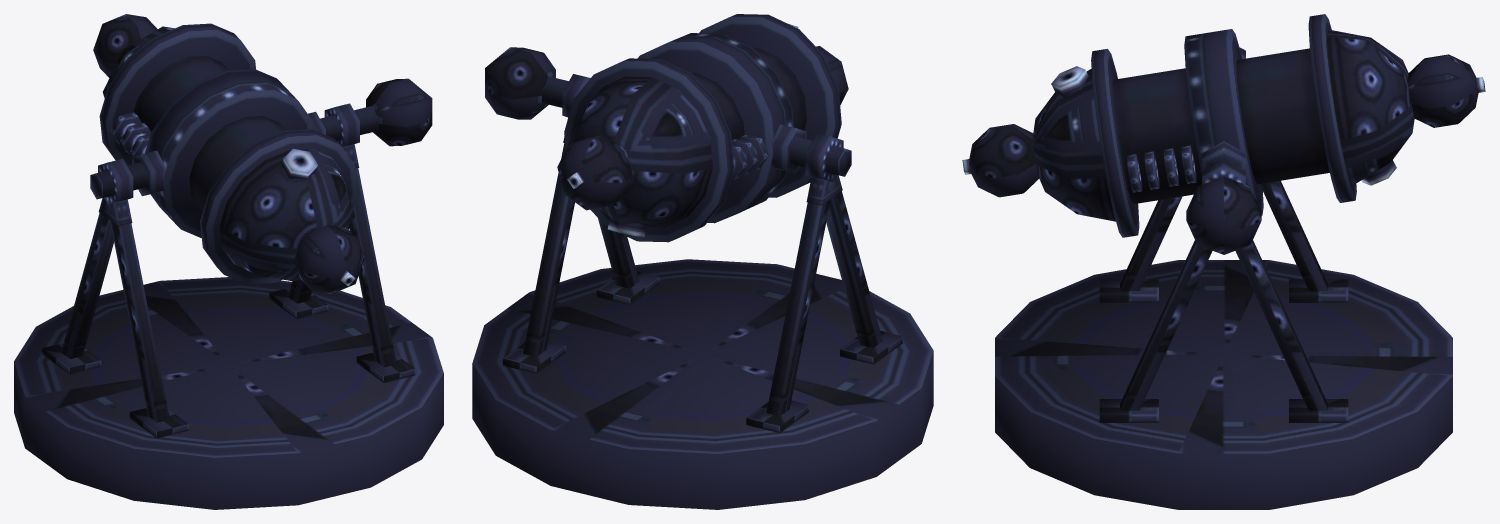
File: int_oth_planetarium.dae
3 renders of one model, left to right at view 1: azimuth 30°, elevation 25°; view 2: azimuth 150°, elevation 25°; view 3: azimuth 270°, elevation 25°, orthographic. The views are drawn at different scales.
Visible parts, largest first — view 1: int_oth_planetarium; view 2: int_oth_planetarium; view 3: int_oth_planetarium.
Part boxes in pixels (left/top/right/bottom): int_oth_planetarium: left=14, top=14, right=443, bottom=509; int_oth_planetarium: left=472, top=14, right=933, bottom=509; int_oth_planetarium: left=962, top=14, right=1485, bottom=509.
Bounding box in the file's own units: 59.24 × 53.03 × 64.41.
Materials: 1 (1 with a texture image).
